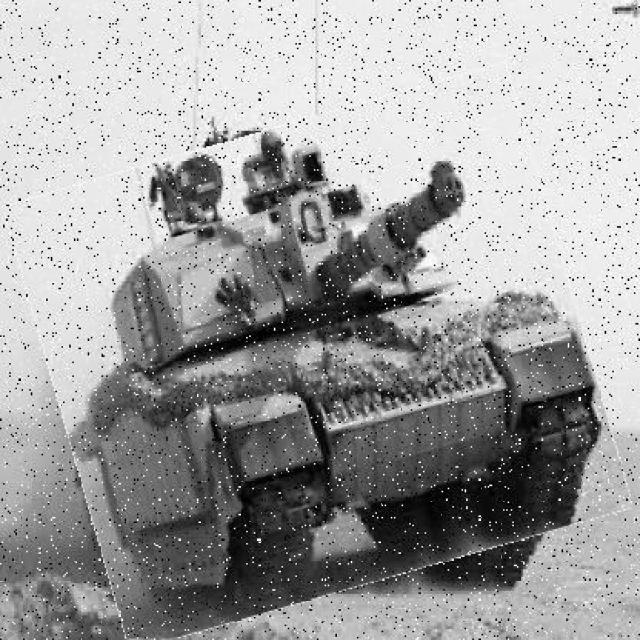Tank: (30, 95, 607, 621)
